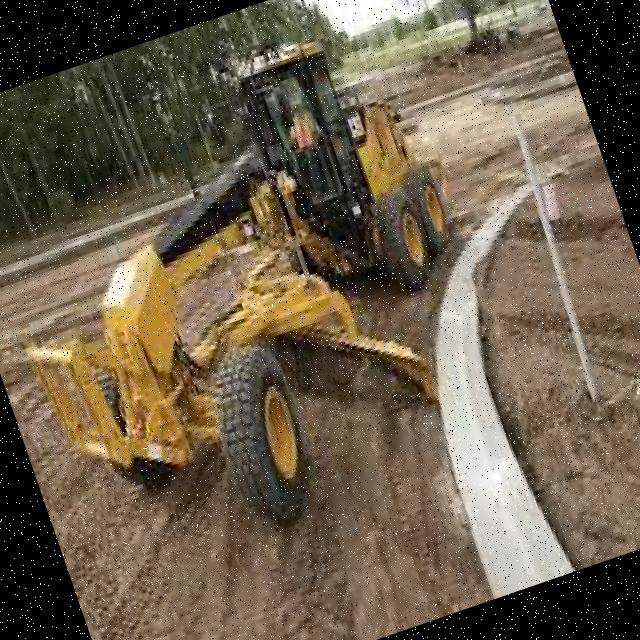Grader: (0, 0, 545, 606)
